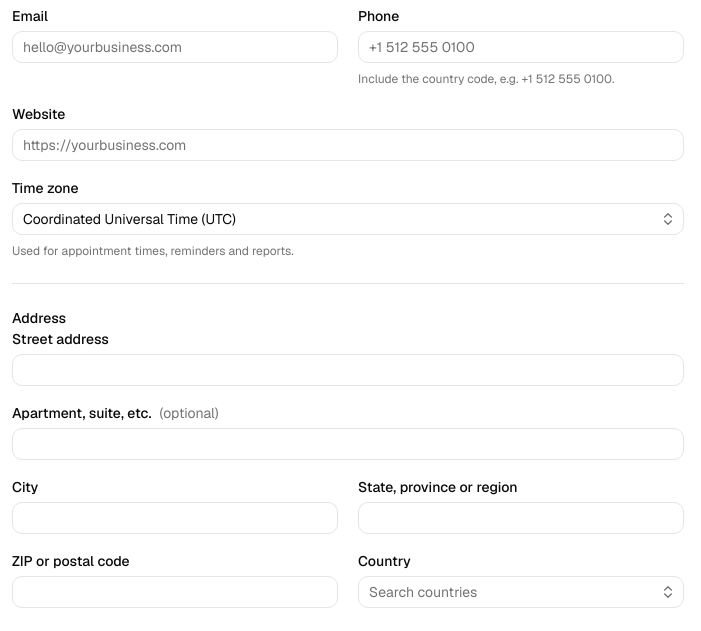
Test: WorkspaceProfileForm › submits every field, then shows the values as stored
Type "+1 (512) 555-0100" into the field labelled "Phone".
click(521, 47); type("+1 (512) 555-0100")  # box [358, 31, 684, 63]
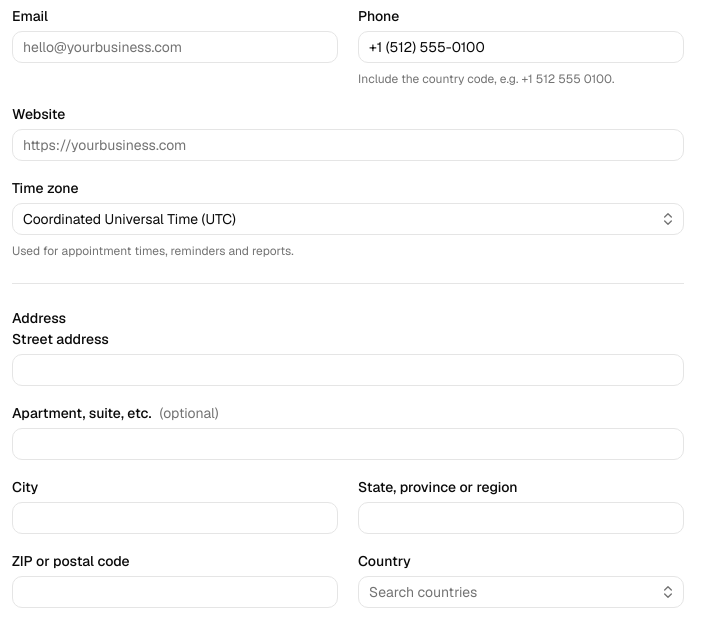
Type "Austin" into the field labelled "City".
click(175, 518); type("Austin")  # box [12, 502, 338, 534]
(page scrolled)
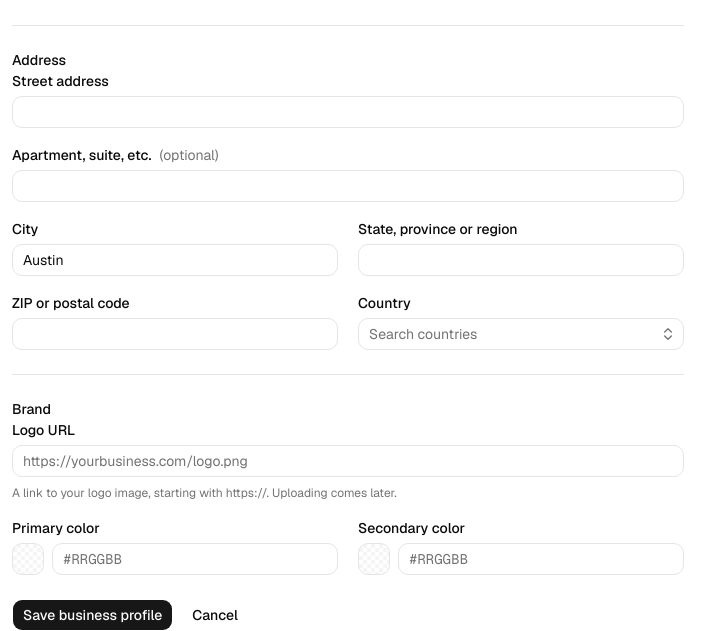
Type "#1D4ED8" into the field labelled "Primary color".
click(195, 559); type("#1D4ED8")  # box [52, 543, 338, 575]
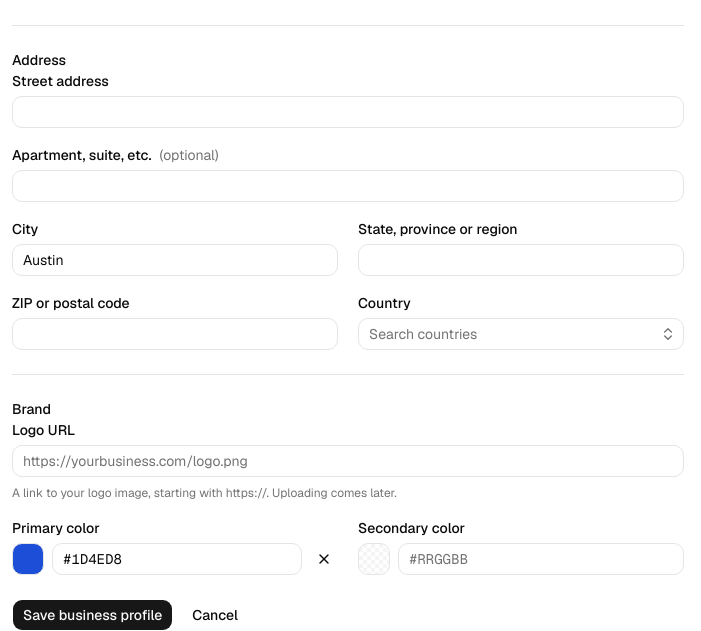
Click the button "Save business profile".
click(93, 615)  # box [12, 599, 173, 630]
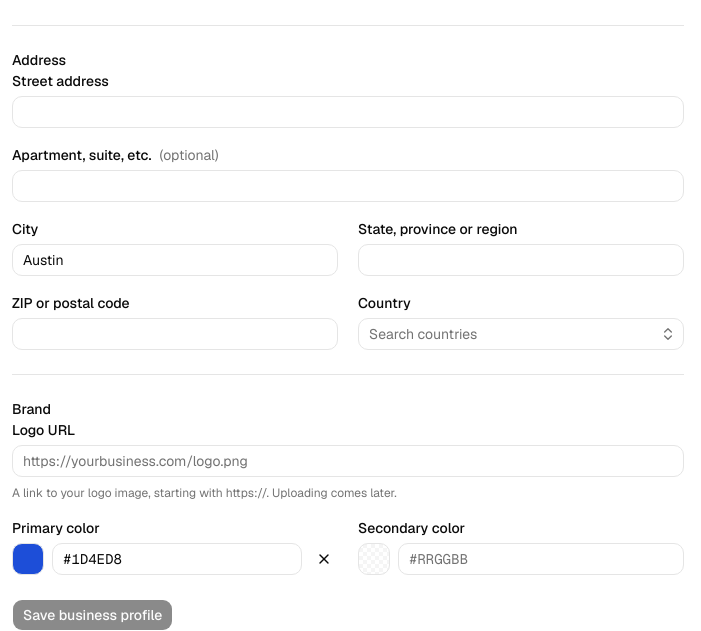
Now the button "Save business profile" is disabled, box [12, 599, 173, 630]
